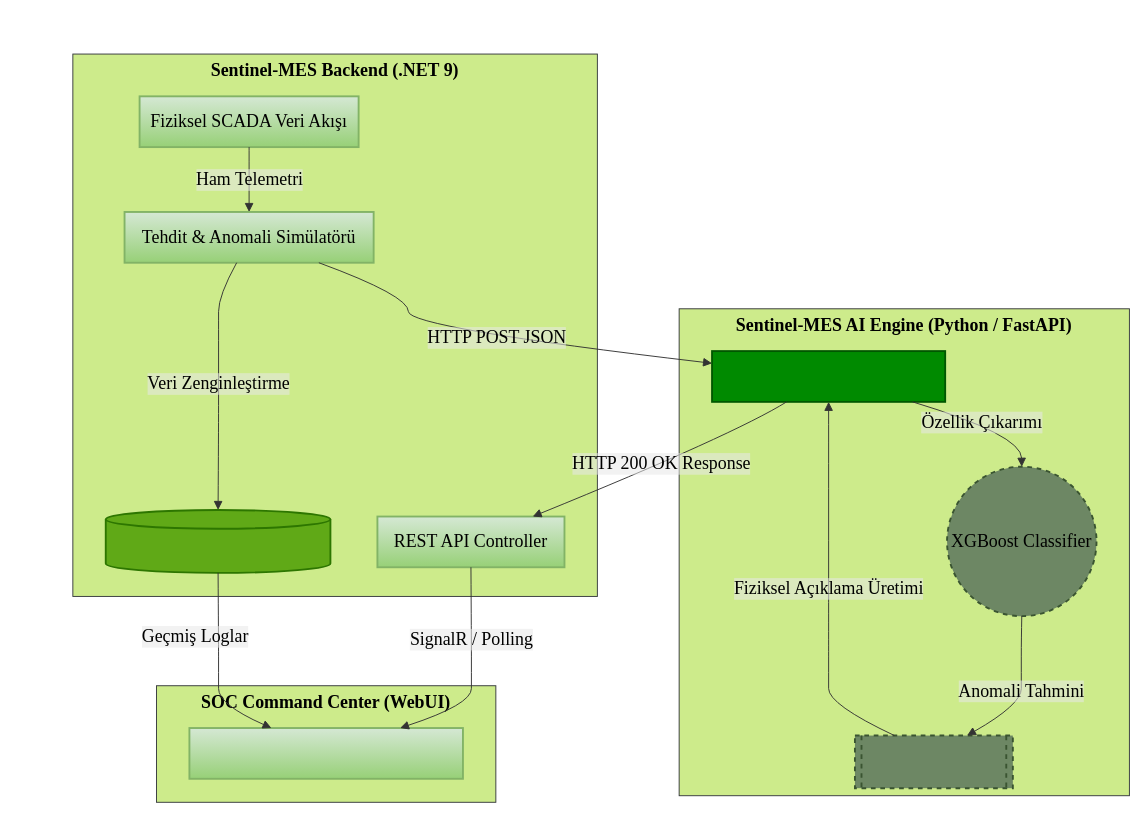
This 1146x819 diagram has some shape labels left out. The centre of each missing label's shape, as x and y in pixels:
"Canlı Tehdit Radarı & Dashboard" belongs at (x=325, y=753).
"FastAPI Endpoint /analyze" belongs at (x=828, y=376).
"PostgreSQL - Audit & Telemetry" belongs at (x=217, y=541).
"SHAP XAI Explainer" belongs at (x=933, y=761).
